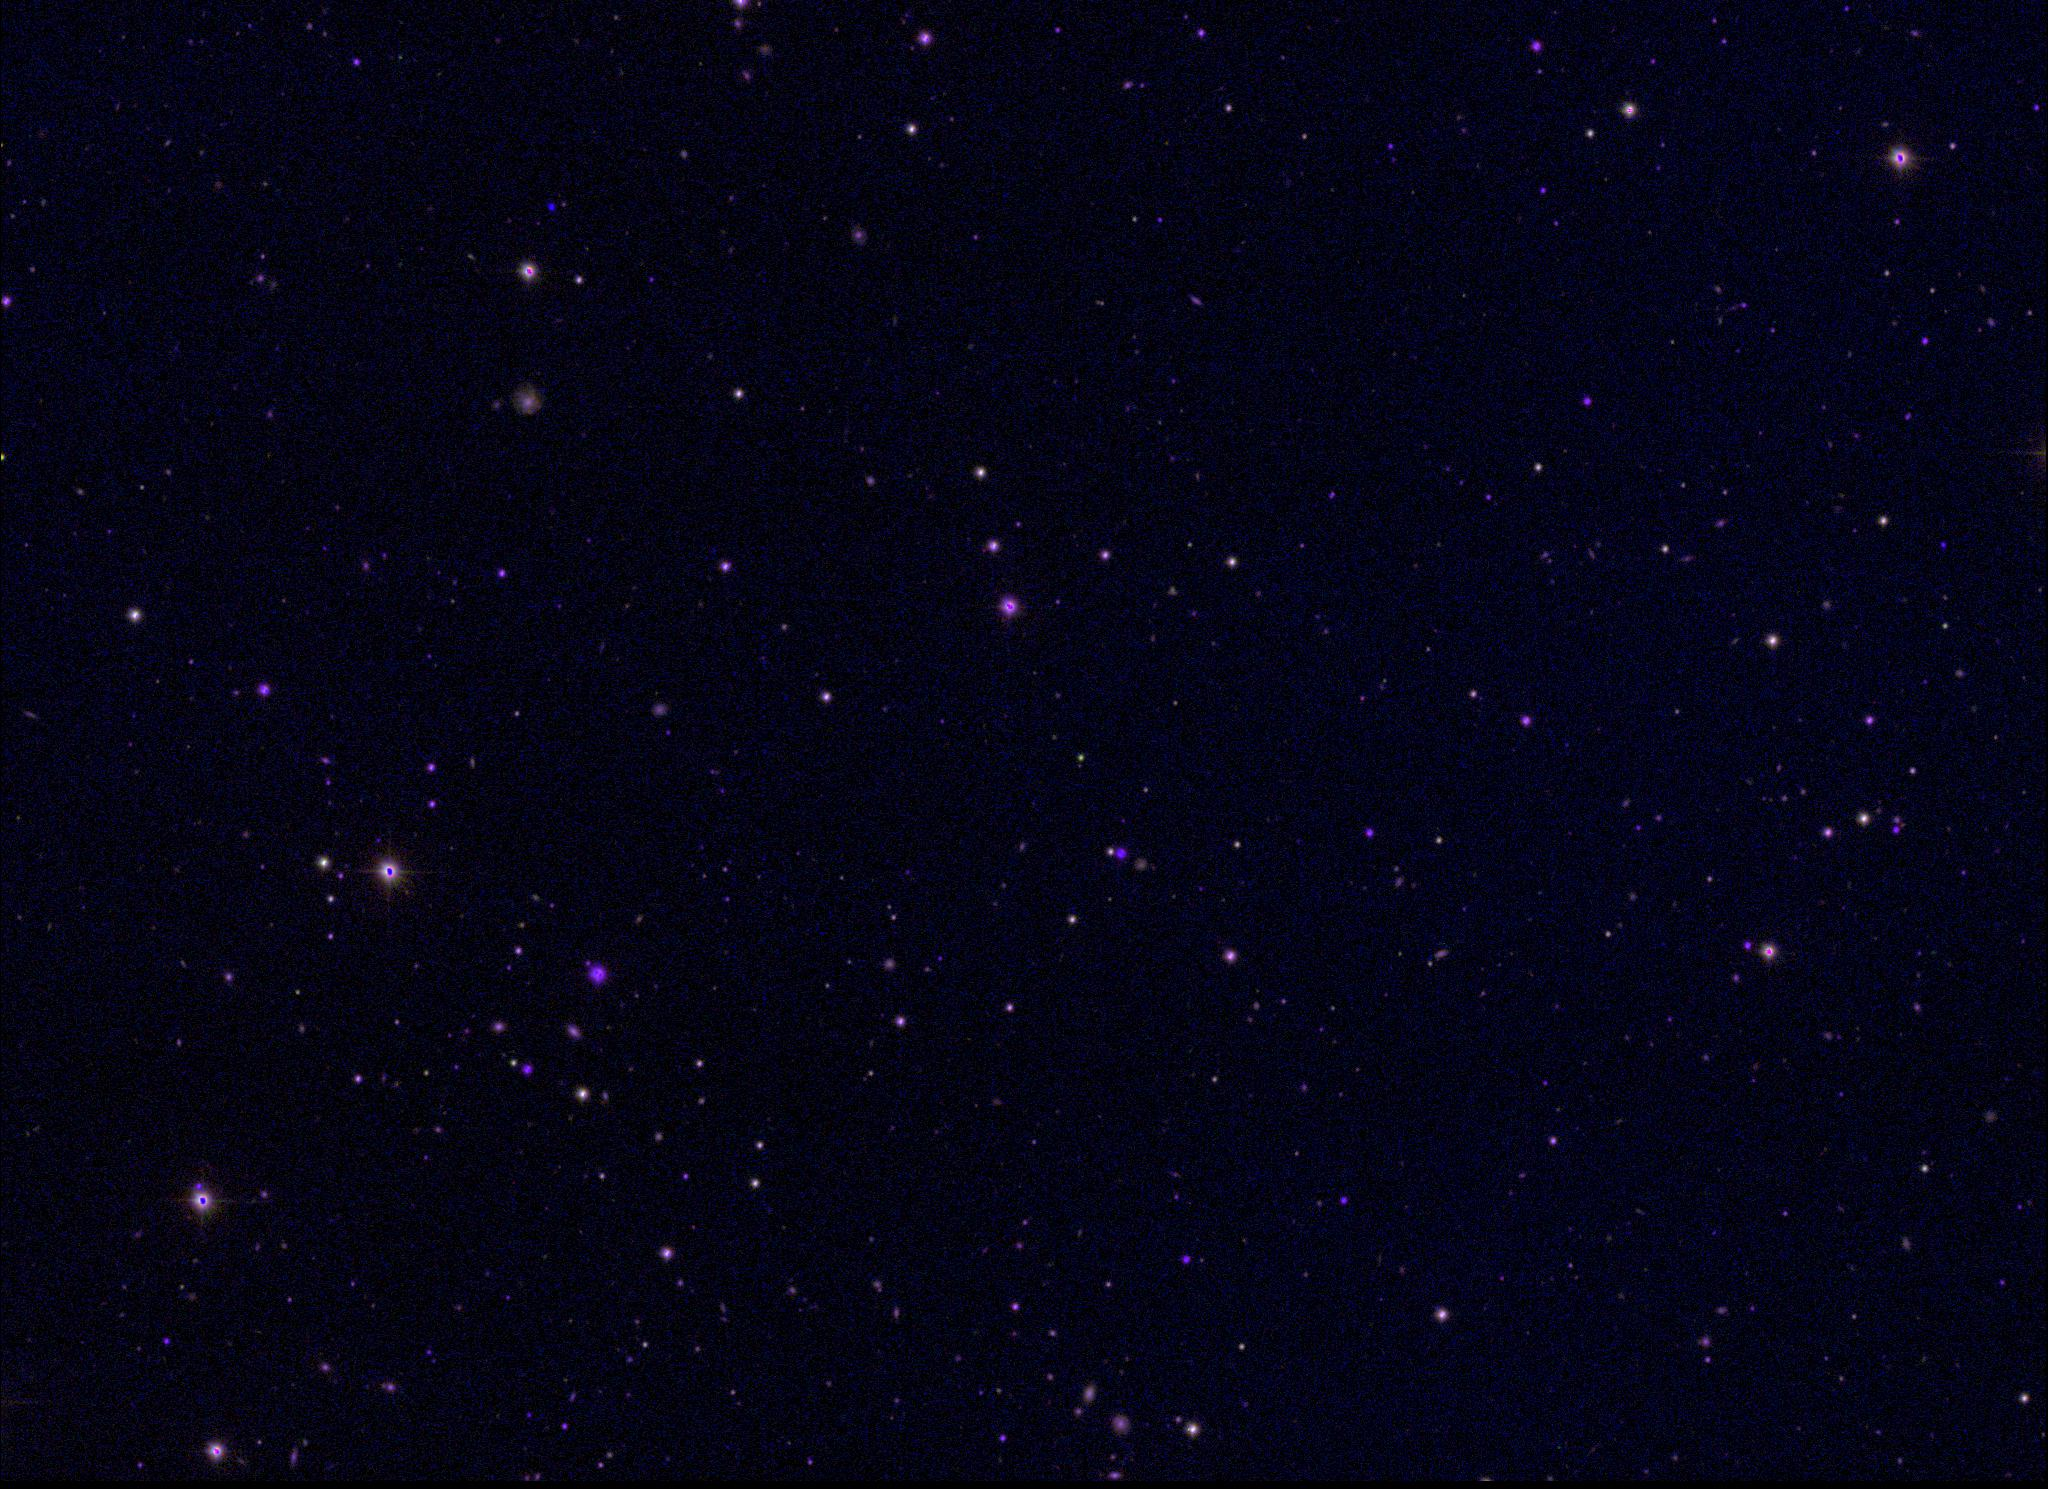L: (545, 200, 560, 215)
